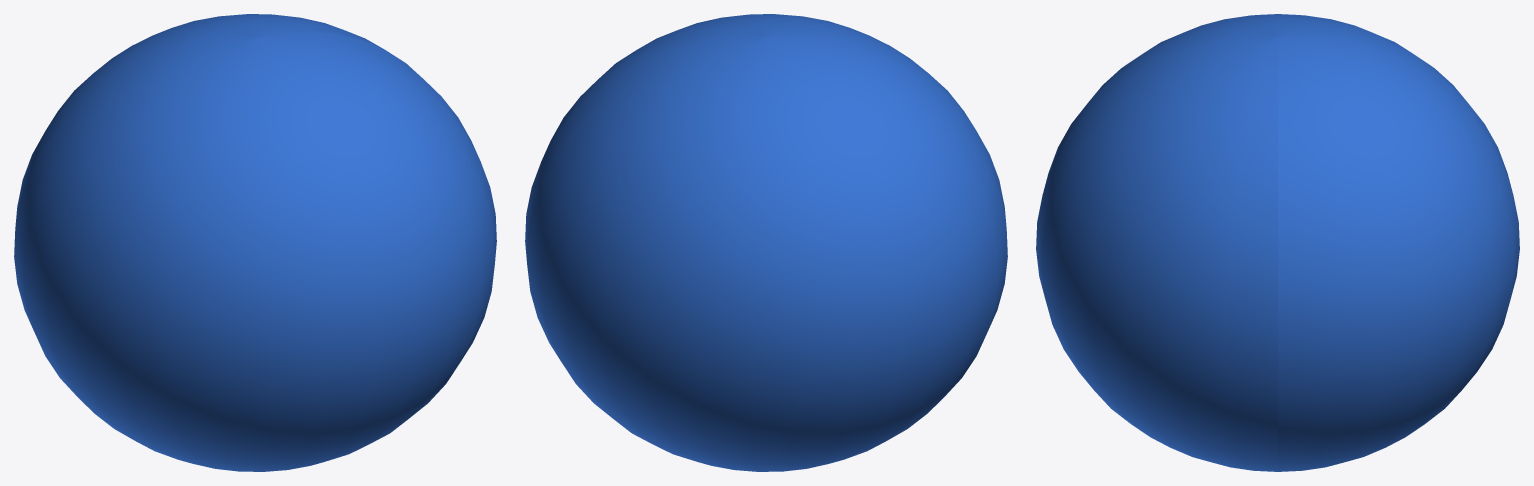
File: anime_slime.fbx
3 views of the same model, side by side, from view 1: azimuth 30°, elevation 25°; view 2: azimuth 150°, elevation 25°; view 3: azimuth 270°, elevation 25° (orthographic).
Visible parts, largest first — view 1: Slime_GlowAura; view 2: Slime_GlowAura; view 3: Slime_GlowAura.
Part boxes in pixels (x1,y1,x2,y2): Slime_GlowAura: [14, 14, 496, 471]; Slime_GlowAura: [525, 14, 1007, 471]; Slime_GlowAura: [1036, 14, 1519, 471].
Size of the model in its own units: 2.49 by 2.21 by 2.49.
